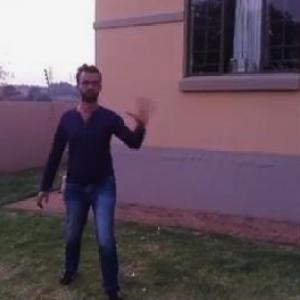follow_hand: (126, 93, 159, 127)
